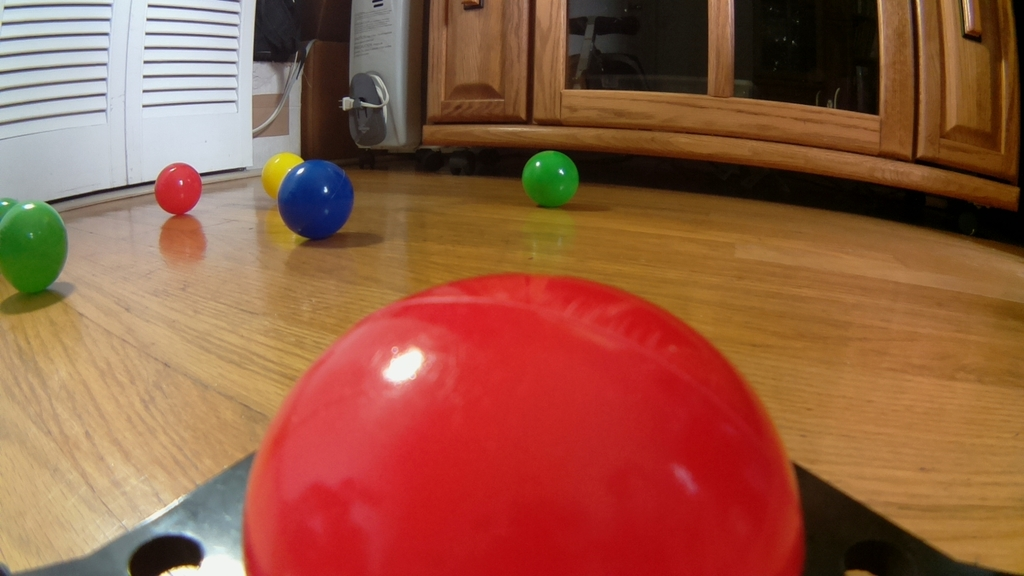ball: (276, 158, 355, 238)
